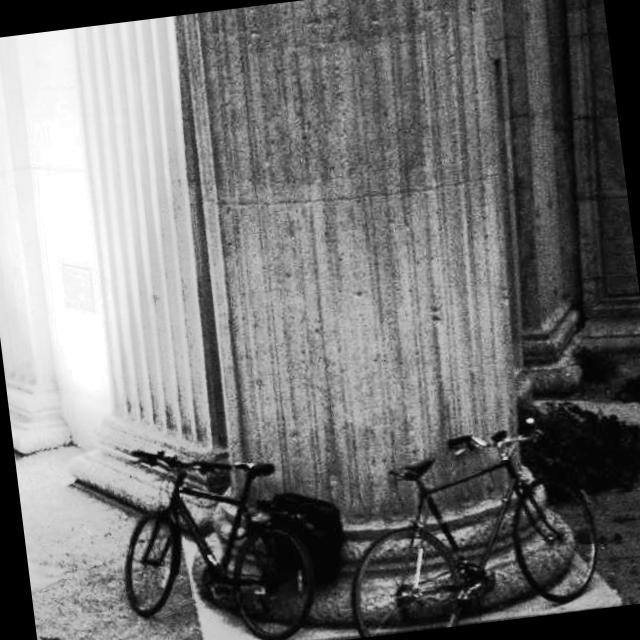Bicycle: (317, 388, 640, 639), (77, 420, 316, 640)
